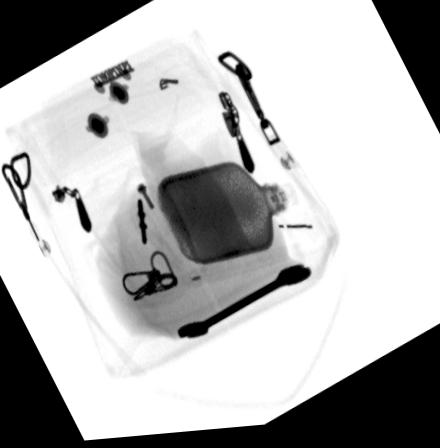Wrench: (175, 266, 314, 345)
